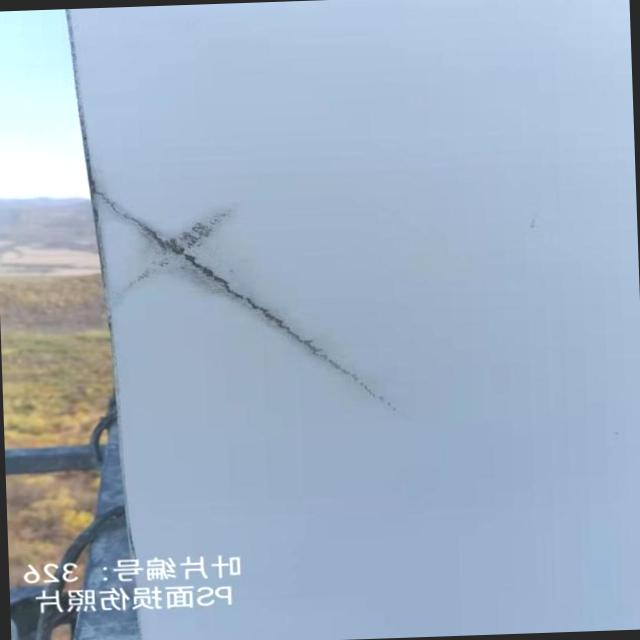crack: (94, 182, 385, 409)
